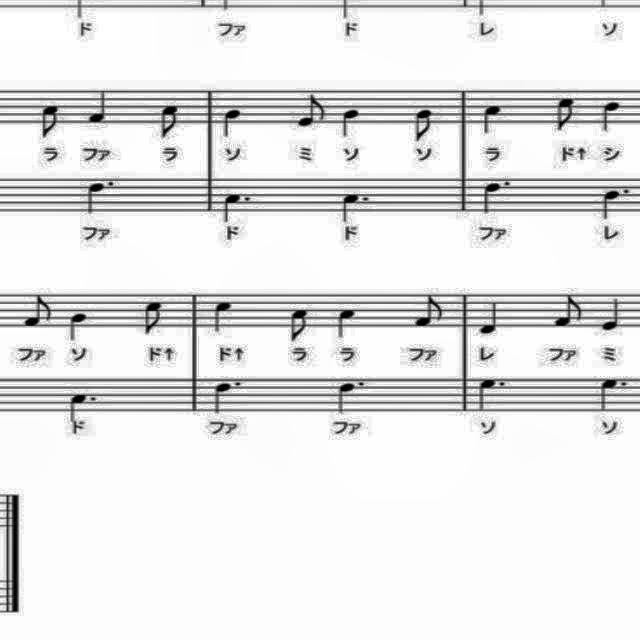Eighth-note: (19, 290, 57, 334), (411, 287, 445, 335), (550, 289, 586, 331), (552, 94, 582, 138), (156, 98, 186, 142), (292, 94, 328, 130), (139, 298, 169, 340), (34, 101, 64, 141), (284, 304, 312, 344), (408, 105, 436, 144)
Quarter-dot: (594, 180, 634, 224), (80, 177, 120, 219), (332, 379, 376, 416), (482, 171, 511, 223), (595, 372, 629, 416), (208, 379, 244, 417), (219, 188, 253, 228), (474, 376, 506, 416), (338, 189, 370, 229), (68, 389, 98, 423)
Quarter-note: (477, 294, 507, 340), (80, 84, 112, 126), (595, 290, 625, 334), (595, 96, 623, 134), (212, 294, 235, 340), (478, 101, 504, 139), (334, 304, 358, 344), (218, 106, 242, 142), (64, 308, 88, 344), (340, 106, 360, 142)
